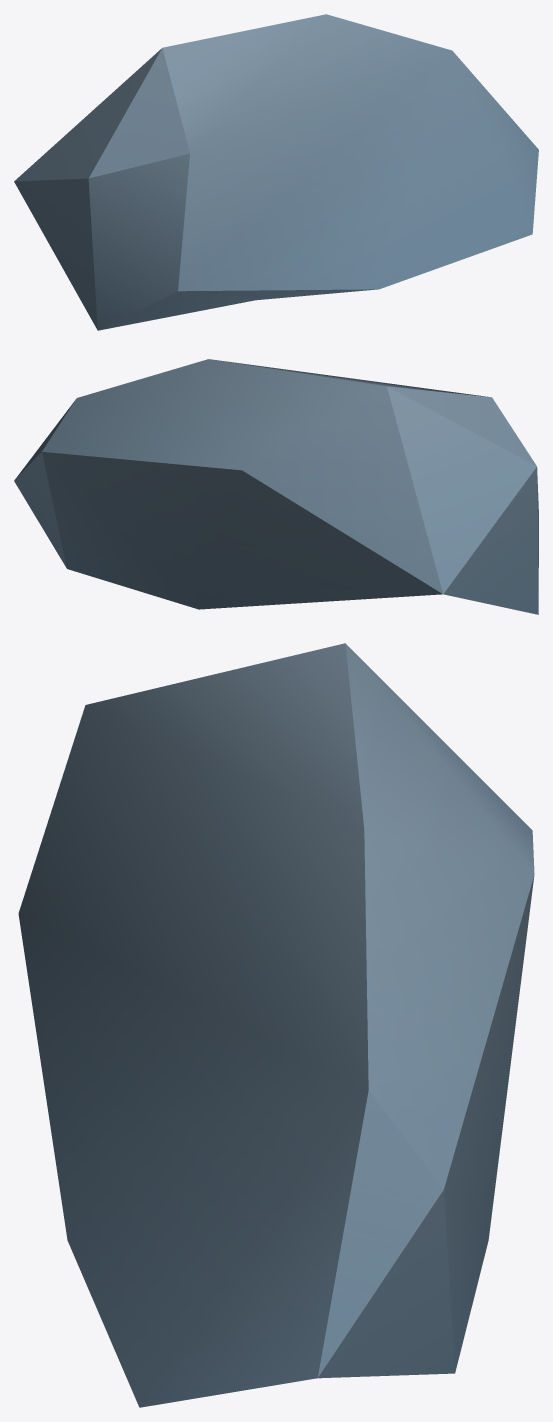
File: Rock_01A.glb
3 views of the same model, one above another, from view 1: azimuth 30°, elevation 25°; view 2: azimuth 150°, elevation 25°; view 3: azimuth 270°, elevation 25° (orthographic). The views are drawn at different scales.
Parts seen in each view (by area): view 1: Rock_01A; view 2: Rock_01A; view 3: Rock_01A.
Part boxes in pixels (left/top/right/bottom): Rock_01A: left=14, top=14, right=538, bottom=330; Rock_01A: left=14, top=359, right=538, bottom=614; Rock_01A: left=18, top=643, right=534, bottom=1407.
Bounding box in the file's own units: 1.91 × 0.8641 × 0.8911.
1 material, 1 textured.
